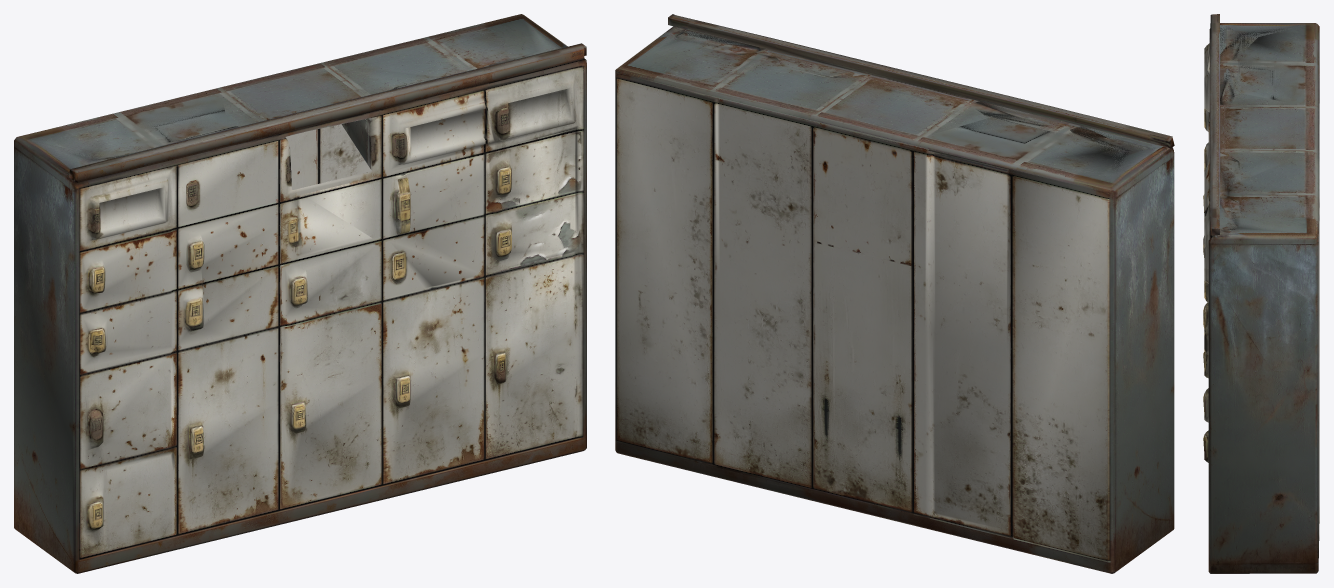
File: Meshy_AI_Rusted_Locker_Grid_0519014819_texture.fbx
3 renders of one model, left to right at view 1: azimuth 30°, elevation 25°; view 2: azimuth 150°, elevation 25°; view 3: azimuth 270°, elevation 25°, orthographic. The views are drawn at different scales.
Visible parts, largest first — view 1: Mesh_0; view 2: Mesh_0; view 3: Mesh_0.
Part boxes in pixels (bbox=[...]): Mesh_0: bbox=[14, 14, 586, 573]; Mesh_0: bbox=[615, 14, 1174, 573]; Mesh_0: bbox=[1203, 14, 1319, 573].
Size of the model in its own units: 191 by 143 by 43.44.
1 material, 1 textured.
